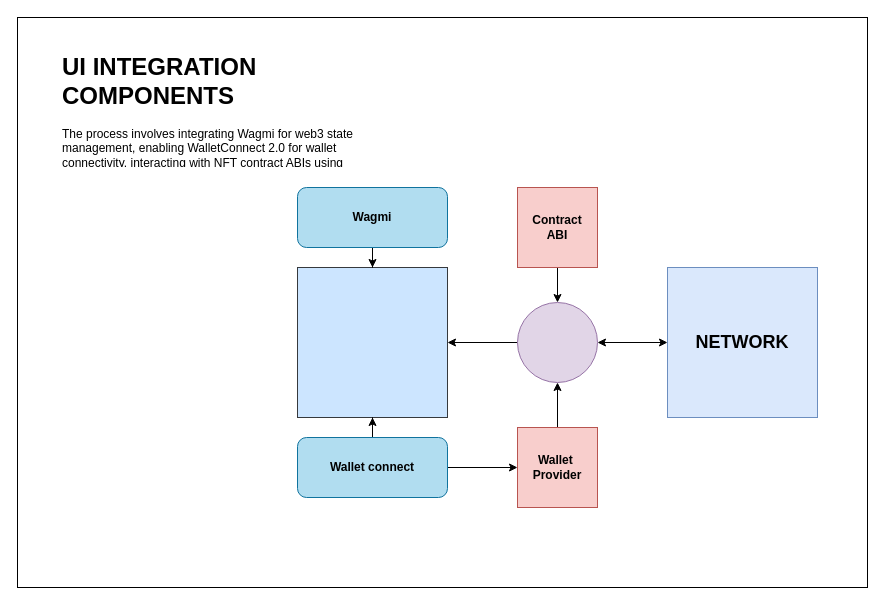
This 885x605 diagram has some shape labels left out. The shapes that lost their labels are listed below. From the top down, each one's centre as x and y in pixels, then its label:
At point (372, 342): "React UI".
At point (557, 342): "Ethers JS".
